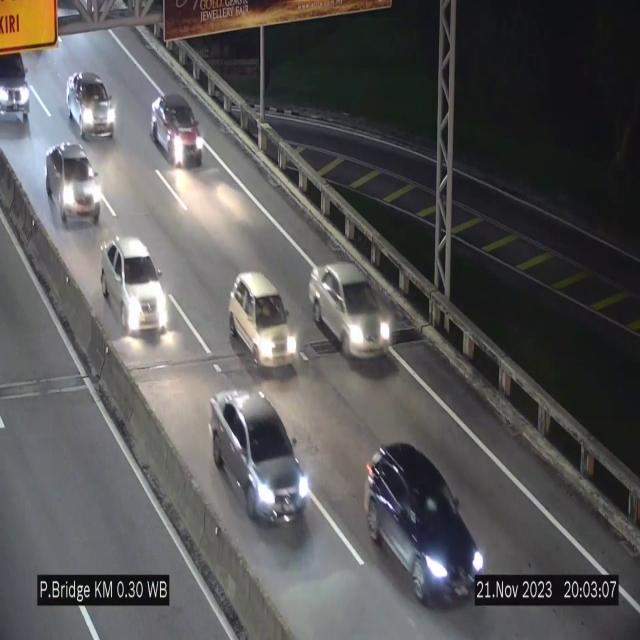Car: (357, 436, 489, 607), (211, 390, 311, 524), (309, 264, 397, 359), (228, 273, 299, 371), (102, 236, 168, 334), (47, 145, 107, 232), (0, 31, 40, 137), (151, 94, 203, 167), (66, 71, 116, 141)
